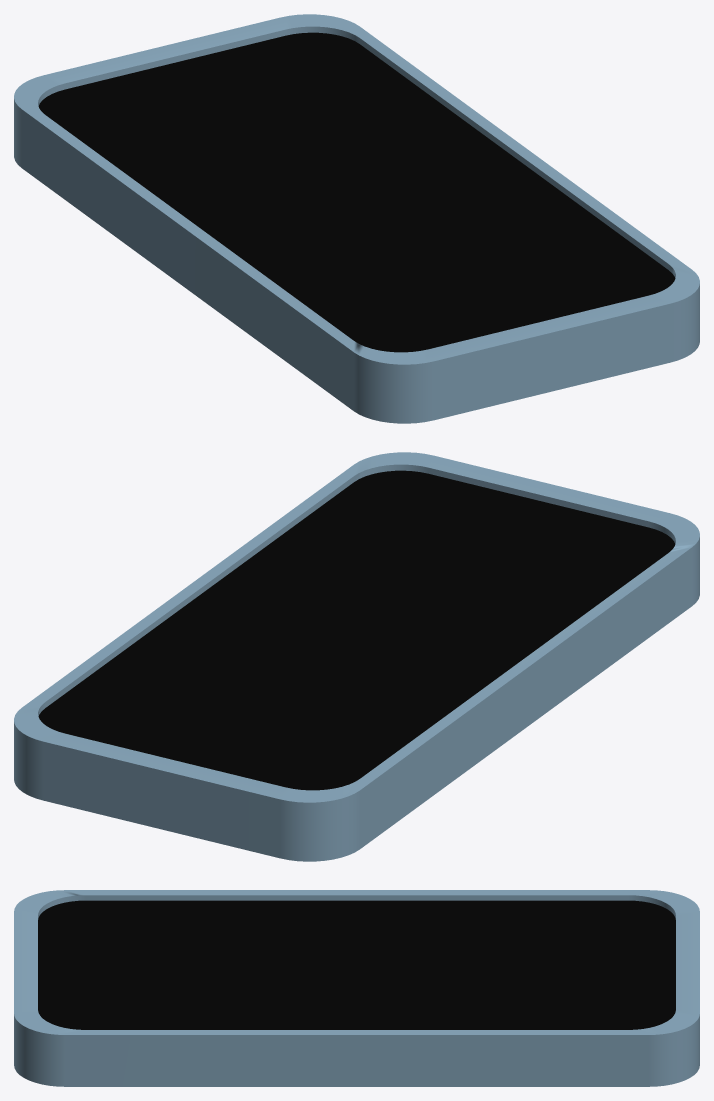
File: Mobile Phone Fixed.fbx
3 views of the same model, one above another, from view 1: azimuth 30°, elevation 25°; view 2: azimuth 150°, elevation 25°; view 3: azimuth 270°, elevation 25° (orthographic). The views are drawn at different scales.
Visible parts, largest first — view 1: Phone_Case; view 2: Phone_Case; view 3: Phone_Case.
Part boxes in pixels (left/top/right/bottom): Phone_Case: left=14, top=14, right=699, bottom=423; Phone_Case: left=14, top=452, right=699, bottom=861; Phone_Case: left=14, top=890, right=699, bottom=1086.
Bounding box in the file's own units: 0.3 × 0.05 × 0.6.
